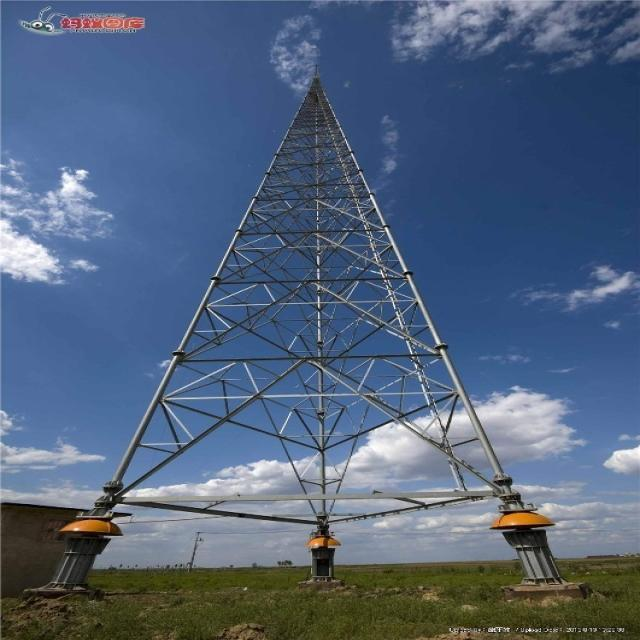non-critical vegetation: (71, 56, 552, 532)
